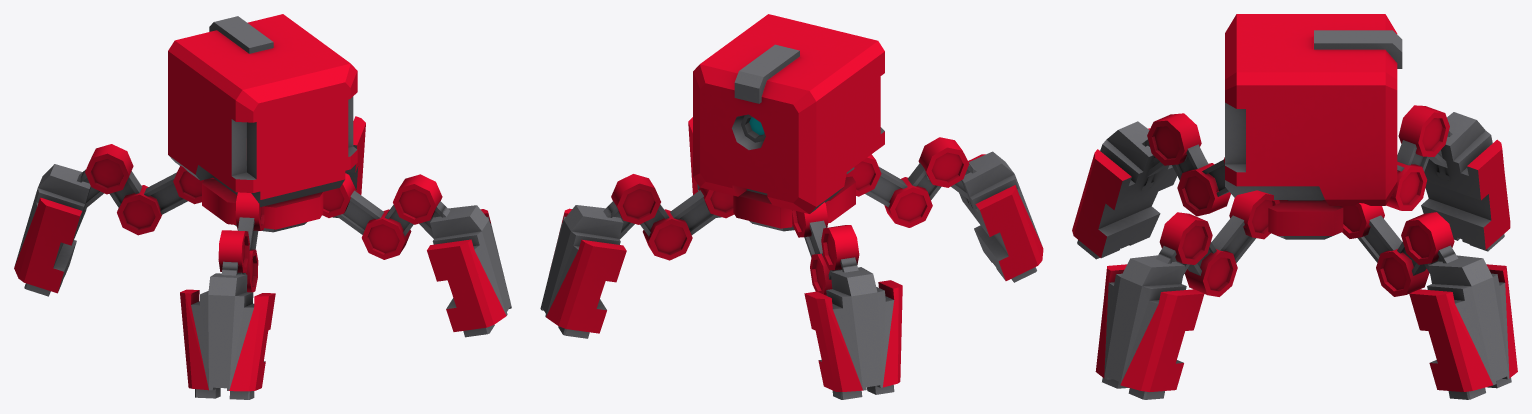
File: Monster1_Attack1.obj
The picture shows the model from 3 angles, left to right: view 1: azimuth 30°, elevation 25°; view 2: azimuth 150°, elevation 25°; view 3: azimuth 270°, elevation 25°; orthographic projection. The views are drawn at different scales.
Parts seen in each view (by area): view 1: Box006, Object021, Object017, Object025, Object020, Object028, Object027, Object018, Object019, Object026, Object024, Object022 (+2 smaller); view 2: Box006, Object025, Object013, Object021, Object016, Object024, Object023, Object015, Object014, Object022, Object028, Object026 (+1 smaller); view 3: Box006, Object013, Object017, Object021, Object025, Object018, Object016, Object023, Object020, Object024, Object028, Object014 (+4 smaller).
Part boxes in pixels (x1,y1,x2,y2): Box006: (168,14,357,232); Object021: (180,273,275,399); Object017: (427,205,511,337); Object025: (14,164,90,296); Object020: (393,174,449,238); Object028: (77,144,133,209); Object027: (109,171,161,235); Object018: (322,173,384,234); Object019: (361,204,413,259); Object026: (144,166,214,214); Object024: (218,230,249,275); Object022: (235,192,264,250); Box006: (693,14,884,231); Object025: (804,267,902,399); Object013: (540,205,626,338); Object021: (959,151,1043,282); Object016: (603,174,660,239); Object024: (918,137,976,200); Object023: (884,163,941,227); Object015: (640,204,692,260); Object014: (670,187,734,234); Object022: (846,154,907,207); Object028: (821,225,859,272); Object026: (792,202,828,257); Box006: (1225,14,1402,239); Object013: (1409,255,1517,399); Object017: (1095,255,1204,399); Object021: (1072,121,1177,259); Object025: (1421,112,1510,251); Object018: (1211,190,1279,262); Object016: (1401,212,1458,273); Object023: (1172,144,1230,216); Object020: (1156,212,1212,275); Object024: (1142,113,1201,177); Object028: (1398,105,1452,167); Object014: (1340,203,1402,262).
Size of the model in its own units: 150 by 107 by 153.
